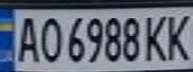6: (63, 14, 87, 63)
8: (121, 14, 145, 63), (103, 14, 124, 63)
9: (81, 13, 106, 64)
A: (12, 12, 42, 64)
K: (160, 10, 193, 62), (142, 11, 172, 62)
O: (36, 13, 63, 64)
